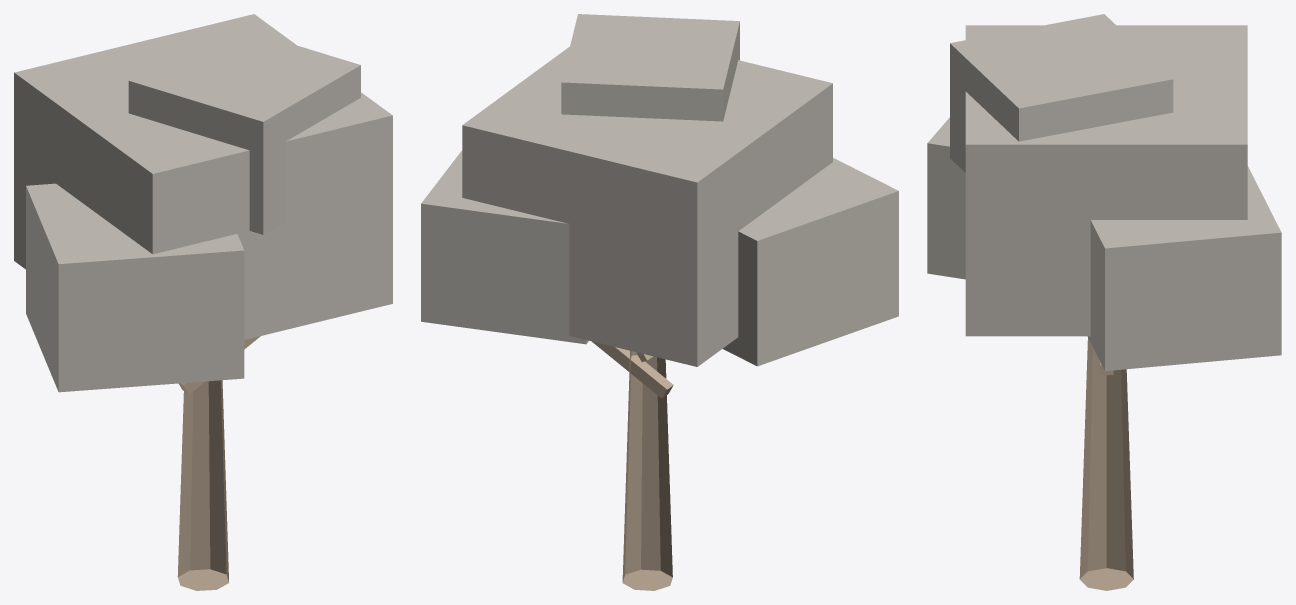
Rendered from tree_blockout.lod1.glb.
3 renders of one model, left to right at view 1: azimuth 30°, elevation 25°; view 2: azimuth 150°, elevation 25°; view 3: azimuth 270°, elevation 25°, orthographic. The views are drawn at different scales.
Parts seen in each view (by area): view 1: props_tree_blockout; view 2: props_tree_blockout; view 3: props_tree_blockout.
Boxes of the visible parts, x1=… form: props_tree_blockout: x1=14, y1=14, x2=392, y2=590; props_tree_blockout: x1=421, y1=14, x2=898, y2=590; props_tree_blockout: x1=927, y1=14, x2=1281, y2=590.
Bounding box in the file's own units: 3.94 × 5.16 × 3.14.
